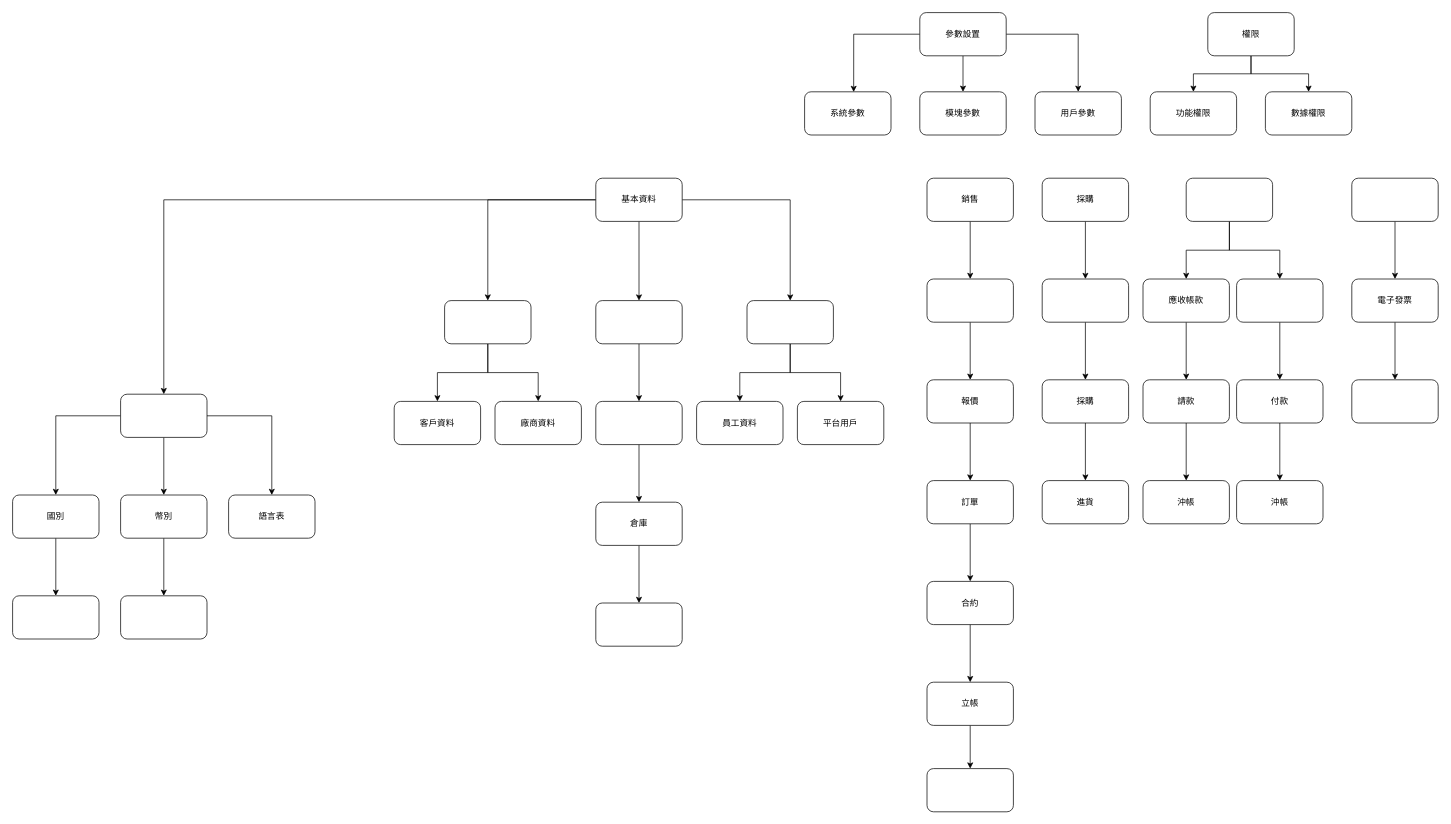
This 1451x824 diagram has some shape labels left out. Here are the shapes that lost their labels. From the top down, the centre of each, then its label:
point 1229,199: 財務
point 1394,199: 稅務
point 969,300: 銷售機會
point 1085,300: 請購
point 1279,300: 應付帳款
point 487,322: 公司資料(廠商&客戶)
point 638,322: 產品資料
point 789,322: 人脈池資料
point 163,415: 其他共用
point 1394,401: B2B
point 638,423: 單位
point 55,617: 電話，手機格式
point 163,617: 匯率
point 638,624: 儲位
point 969,790: 客服
